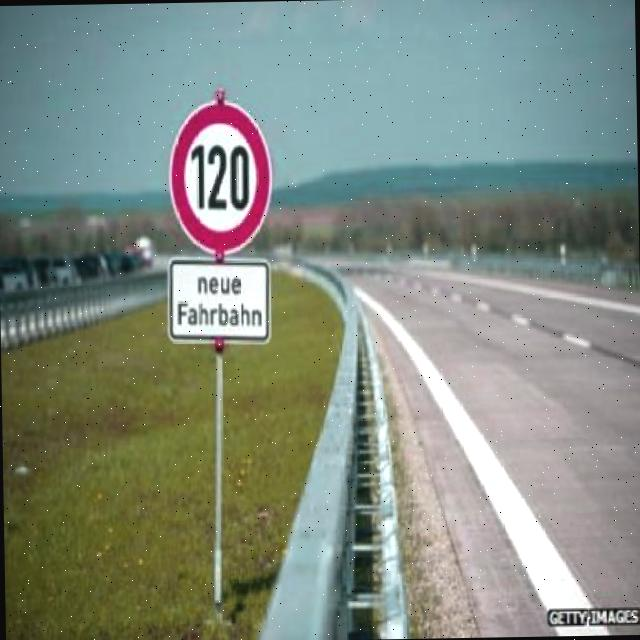Ograniczenie predkosci do 120: (166, 100, 275, 258)
